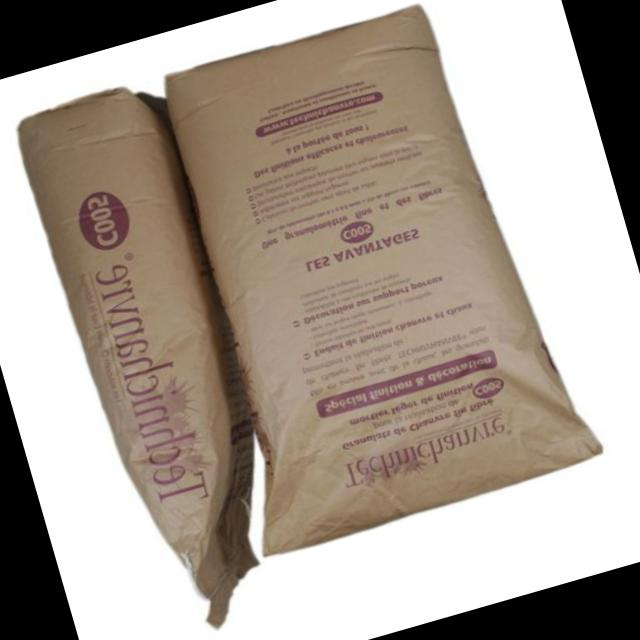KantongSemen: (126, 0, 608, 563), (7, 74, 308, 640)
